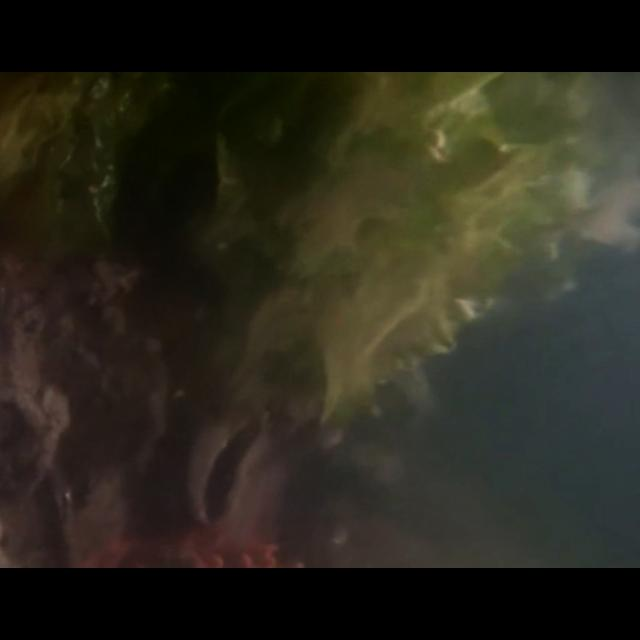Oyster-Open: (188, 406, 278, 526)
